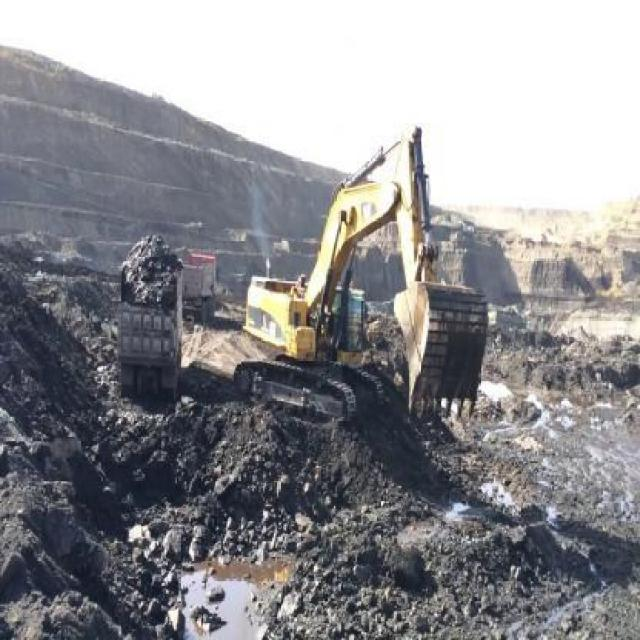Dump Truck: (115, 248, 182, 395), (181, 248, 217, 320)
Excavator: (231, 128, 487, 424)
